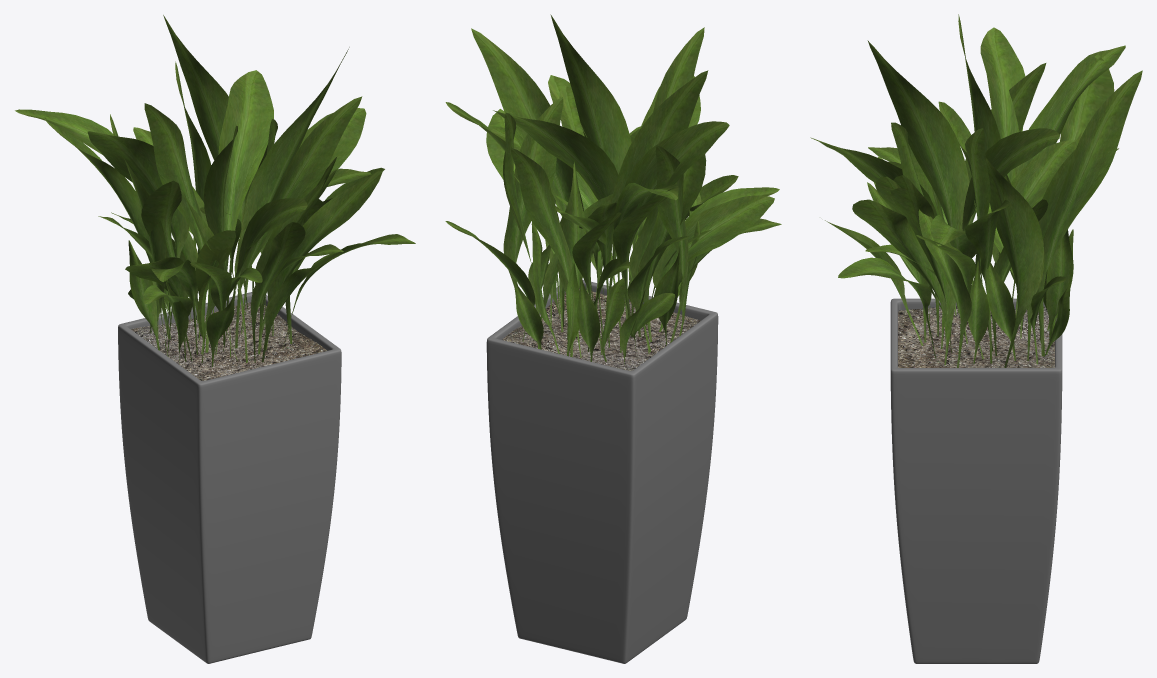
Rendered from Tree S2.fbx.
3 renders of one model, left to right at view 1: azimuth 30°, elevation 25°; view 2: azimuth 150°, elevation 25°; view 3: azimuth 270°, elevation 25°, orthographic. The views are drawn at different scales.
Visible parts, largest first — view 1: grt_8_1, grt_8_4, grt_8_2; view 2: grt_8_1, grt_8_4, grt_8_2; view 3: grt_8_4, grt_8_1, grt_8_2.
Boxes of the visible parts, left/top/right/bottom form: grt_8_1: left=118, top=292, right=341, bottom=663; grt_8_4: left=15, top=15, right=415, bottom=367; grt_8_2: left=131, top=302, right=326, bottom=380; grt_8_1: left=486, top=279, right=718, bottom=663; grt_8_4: left=445, top=14, right=781, bottom=364; grt_8_2: left=502, top=288, right=700, bottom=370; grt_8_4: left=810, top=14, right=1142, bottom=367; grt_8_1: left=890, top=298, right=1062, bottom=663; grt_8_2: left=898, top=306, right=1054, bottom=367.
Size of the model in its own units: 672 by 1246 by 651.
